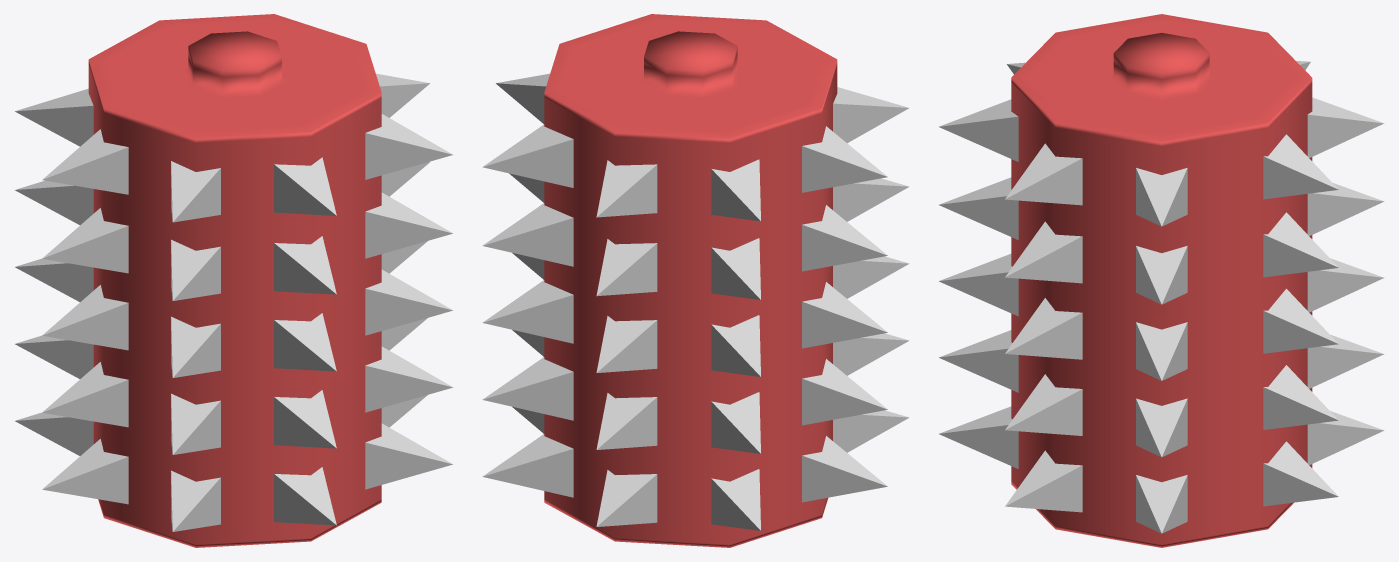
File: obstacle2.fbx
The picture shows the model from 3 angles, left to right: view 1: azimuth 30°, elevation 25°; view 2: azimuth 150°, elevation 25°; view 3: azimuth 270°, elevation 25°; orthographic projection.
Parts seen in each view (by area): view 1: pCylinder1, pCube25, pCube7, pCube17, pCube29, pCube38, pCube28, pCube20, pCube41, pCube4, pCube34, pCube5 (+19 smaller); view 2: pCylinder1, pCube14, pCube22, pCube35, pCube10, pCube12, pCube25, pCube29, pCube17, pCube38, pCube7, pCube23 (+15 smaller); view 3: pCylinder1, pCube4, pCube20, pCube34, pCube28, pCube41, pCube12, pCube14, pCube22, pCube10, pCube35, pCube27 (+14 smaller).
Part boxes in pixels (x1=…): pCylinder1: x1=88, y1=14, x2=381, y2=547; pCube25: x1=42, y1=129, x2=128, y2=194; pCube7: x1=42, y1=285, x2=128, y2=350; pCube17: x1=42, y1=439, x2=128, y2=504; pCube29: x1=42, y1=208, x2=128, y2=273; pCube38: x1=42, y1=362, x2=128, y2=427; pCube28: x1=365, y1=114, x2=452, y2=179; pCube20: x1=365, y1=423, x2=452, y2=489; pCube41: x1=365, y1=346, x2=453, y2=412; pCube4: x1=365, y1=269, x2=453, y2=335; pCube34: x1=365, y1=192, x2=452, y2=258; pCube5: x1=274, y1=236, x2=336, y2=294; pCylinder1: x1=544, y1=14, x2=837, y2=547; pCube14: x1=482, y1=434, x2=573, y2=497; pCube22: x1=482, y1=124, x2=573, y2=187; pCube35: x1=482, y1=357, x2=573, y2=420; pCube10: x1=482, y1=203, x2=573, y2=266; pCube12: x1=482, y1=280, x2=573, y2=343; pCube25: x1=802, y1=126, x2=887, y2=192; pCube29: x1=802, y1=205, x2=887, y2=271; pCube17: x1=802, y1=436, x2=887, y2=502; pCube38: x1=802, y1=359, x2=887, y2=425; pCube7: x1=802, y1=282, x2=887, y2=348; pCube23: x1=596, y1=160, x2=657, y2=217; pCylinder1: x1=1011, y1=14, x2=1312, y2=547; pCube4: x1=1005, y1=298, x2=1082, y2=359; pCube20: x1=1005, y1=450, x2=1082, y2=512; pCube34: x1=1005, y1=221, x2=1082, y2=283; pCube28: x1=1005, y1=143, x2=1082, y2=205; pCube41: x1=1005, y1=374, x2=1082, y2=435; pCube12: x1=1263, y1=288, x2=1338, y2=353; pCube14: x1=1263, y1=441, x2=1338, y2=506; pCube22: x1=1263, y1=134, x2=1338, y2=199; pCube10: x1=1263, y1=212, x2=1338, y2=277; pCube35: x1=1263, y1=365, x2=1338, y2=429; pCube27: x1=939, y1=99, x2=1018, y2=161.
Size of the model in its own units: 4.88 by 5.19 by 4.87.
